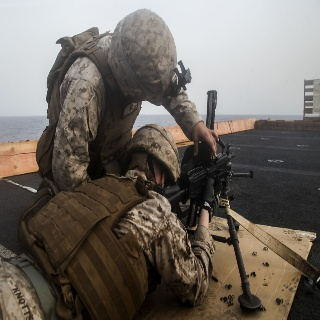rifle: (155, 87, 267, 311)
